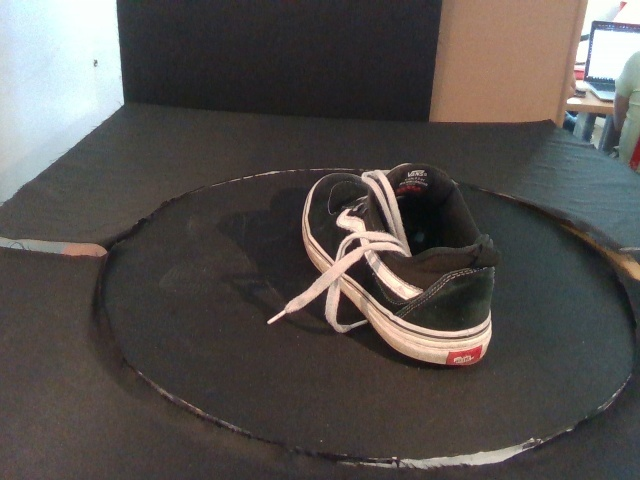shoe: (300, 162, 502, 367)
